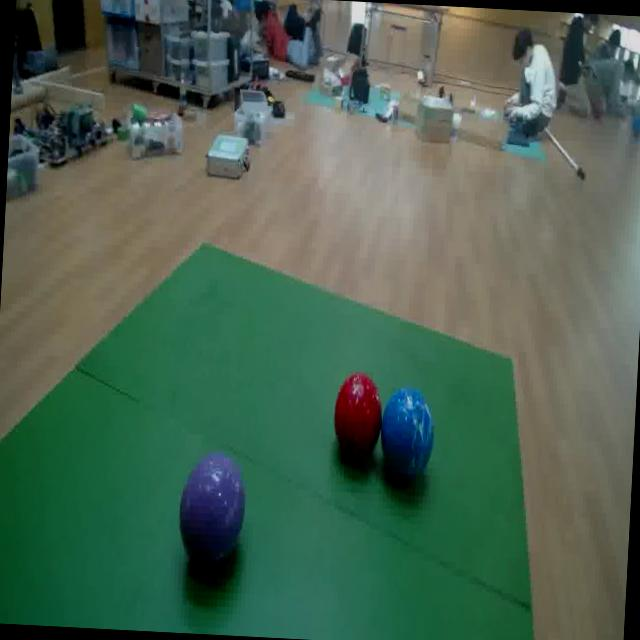blue_ball: (379, 389, 448, 494)
red_ball: (181, 450, 249, 579), (332, 364, 384, 466)
